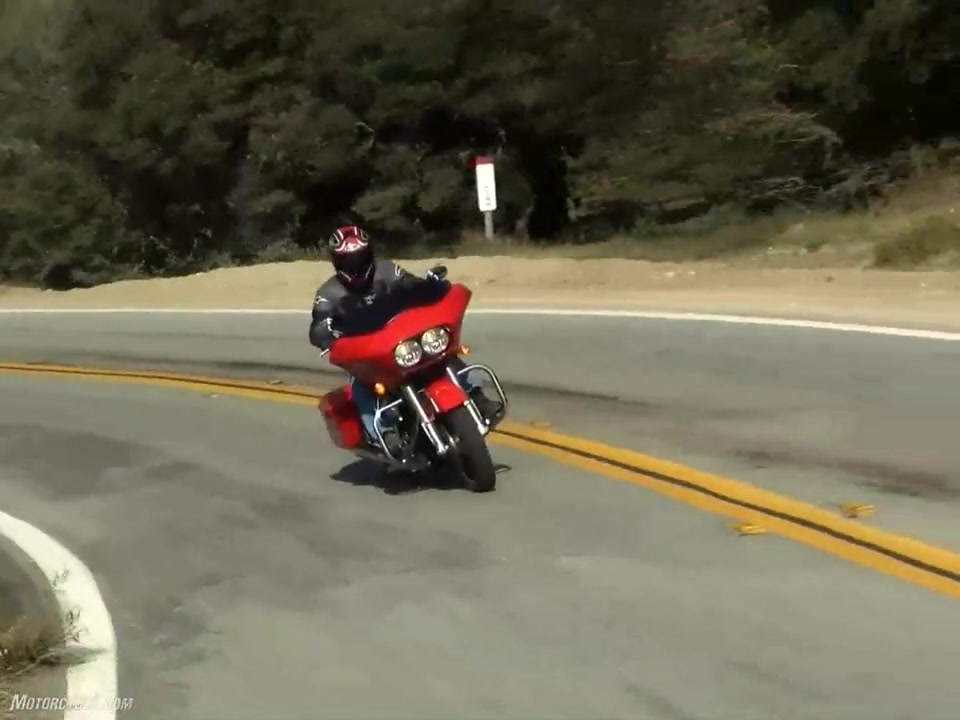motorbike: (300, 277, 521, 503)
